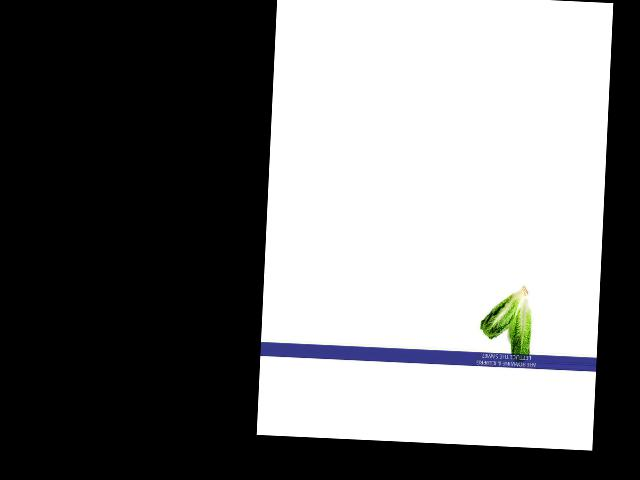lettuce: (480, 284, 530, 345)
